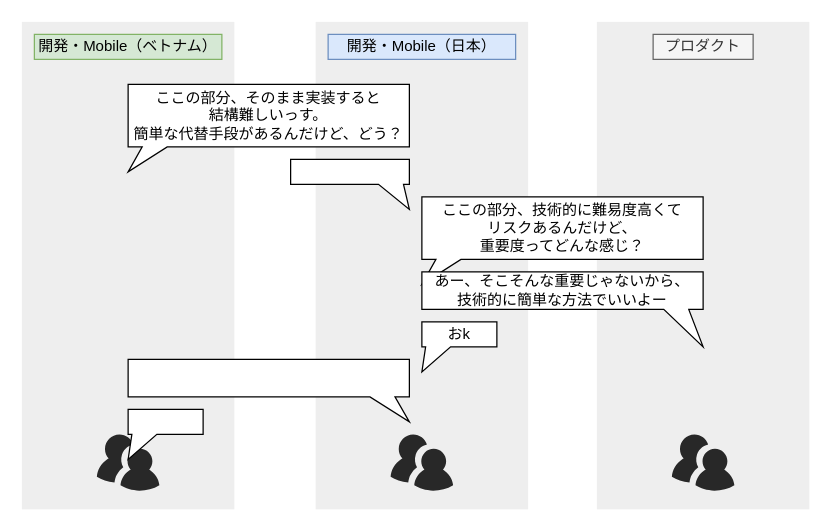
The diagram is 830 pixels wide and 530 high, and some of its shapes have lost their labels. Each missing label, with the centre of its shape:
りょ: the point at 165,433
代替手段で実装しちゃって！ 仕様書も変更するわ: the point at 268,390
聞いてみるー: the point at 349,183
